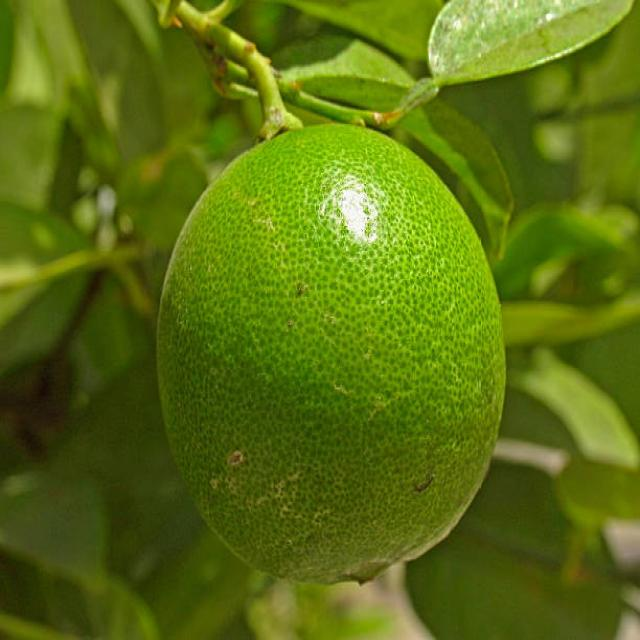Unripe: (155, 117, 505, 581)
